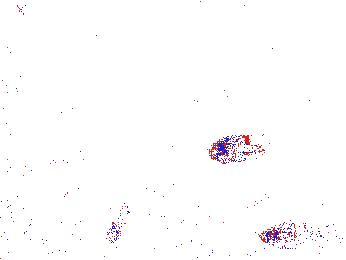X-ray fish: (259, 219, 336, 252), (206, 131, 263, 164), (105, 197, 130, 246)
